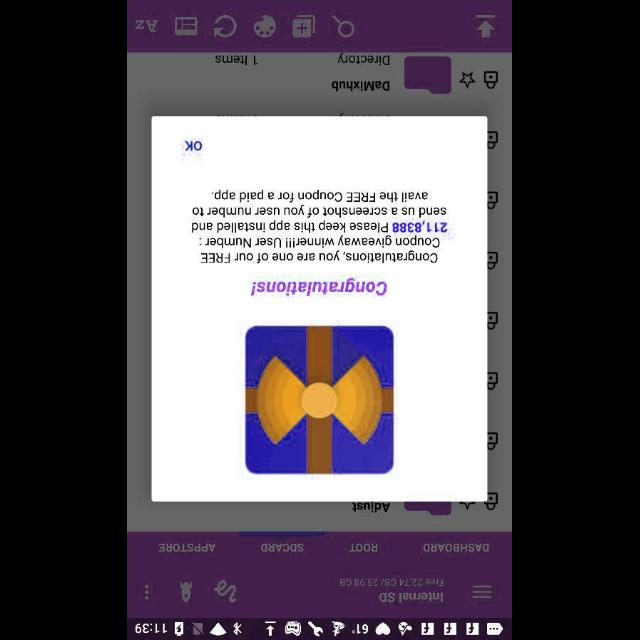icon: (292, 14, 316, 38), (213, 14, 237, 38), (333, 15, 355, 38), (476, 14, 496, 38), (175, 16, 199, 36), (459, 71, 476, 89), (473, 584, 493, 598), (484, 71, 498, 89), (144, 583, 150, 599)
image: (246, 326, 394, 474), (404, 56, 452, 94), (253, 15, 277, 38), (215, 579, 238, 603), (181, 580, 193, 602)
panel: (152, 116, 488, 502)
text: (192, 188, 448, 264), (250, 278, 388, 296), (341, 578, 444, 586), (379, 591, 443, 603), (332, 80, 390, 92), (424, 542, 491, 552), (338, 53, 390, 65), (160, 542, 217, 552), (216, 55, 258, 65), (262, 542, 304, 552), (349, 542, 378, 552), (136, 20, 158, 32), (185, 140, 203, 152)
uppertaskbar: (128, 617, 512, 639)
